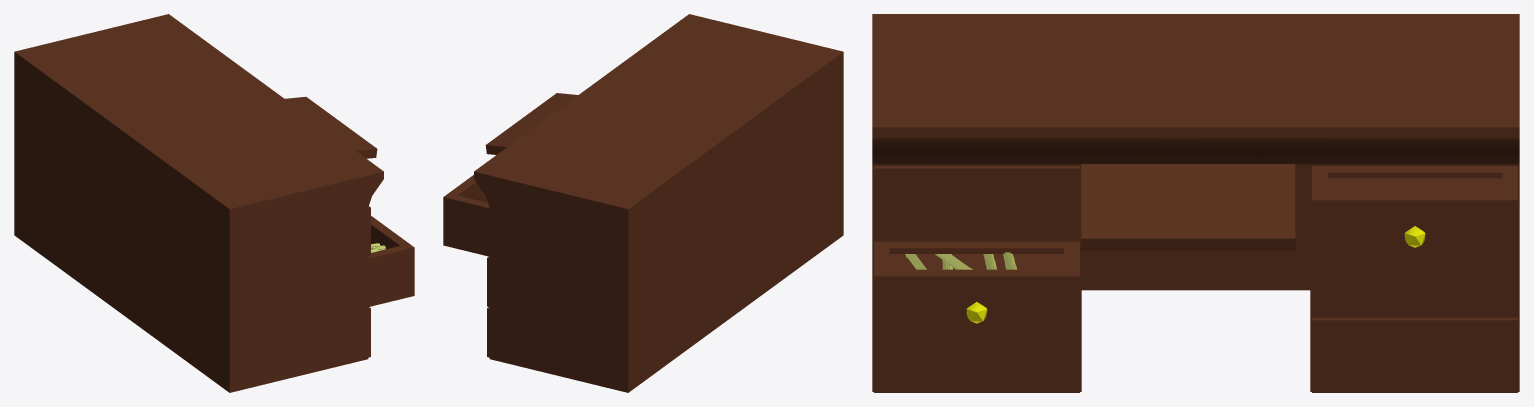
File: ALT KISIM.fbx
3 renders of one model, left to right at view 1: azimuth 30°, elevation 25°; view 2: azimuth 150°, elevation 25°; view 3: azimuth 270°, elevation 25°, orthographic. The views are drawn at different scales.
Parts seen in each view (by area): view 1: Spiral.017; view 2: Spiral.017; view 3: Spiral.017.
Boxes of the visible parts, x1,y1,x2,y2 form: Spiral.017: (14,14,414,392); Spiral.017: (443,14,843,392); Spiral.017: (872,14,1519,392).
Size of the model in its own units: 700 by 566 by 1201.
